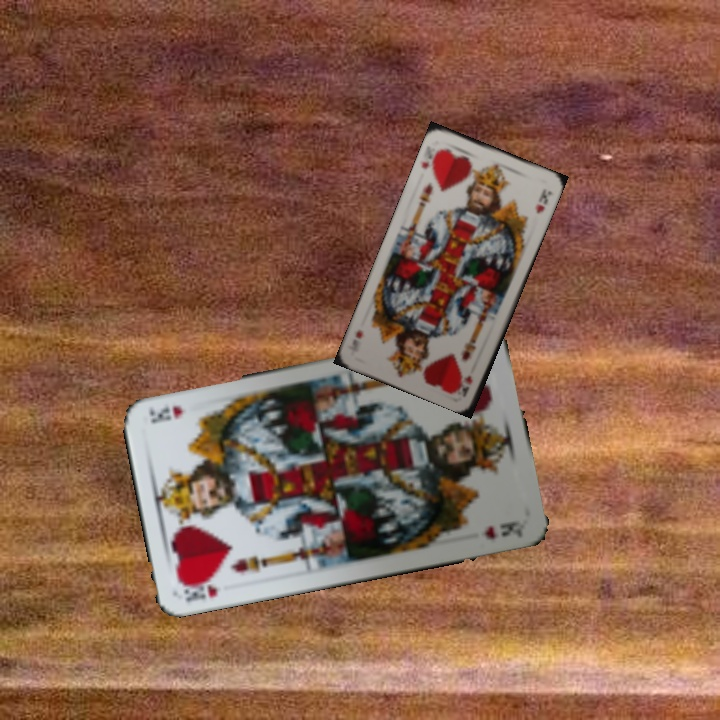HK: (179, 575, 221, 605), (417, 144, 444, 173), (458, 371, 475, 398)
